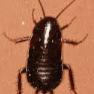cockroach: (25, 12, 64, 92)
